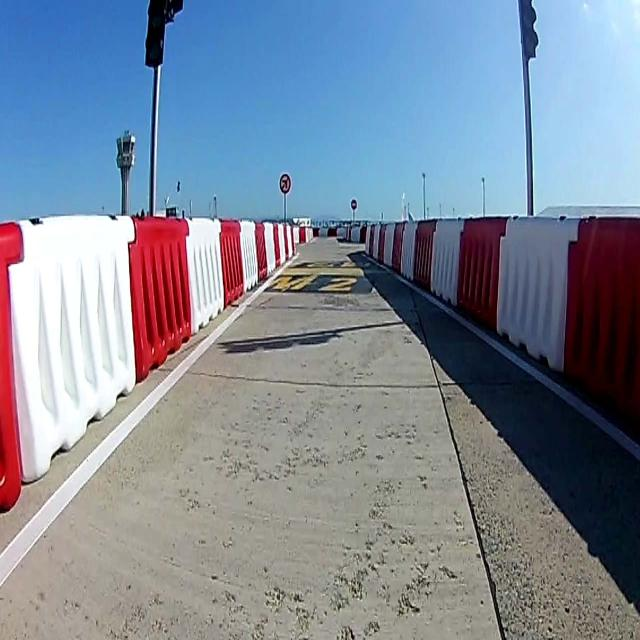soladonulmez: (279, 172, 291, 194)
